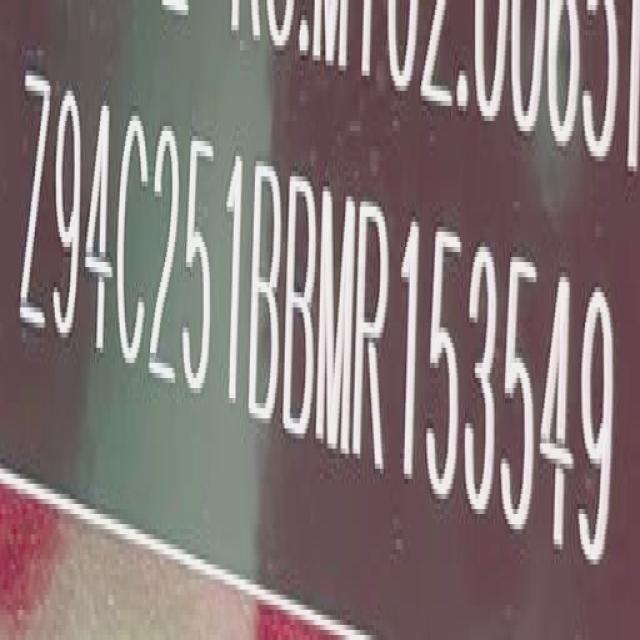1: (398, 210, 422, 482), (222, 147, 244, 410)
2: (152, 130, 183, 387)
3: (466, 246, 499, 523)
4: (542, 268, 576, 562), (88, 98, 116, 359)
5: (424, 221, 463, 501), (503, 257, 538, 541), (181, 134, 216, 395)
9: (580, 293, 617, 574), (51, 80, 81, 345)
B: (250, 154, 284, 420), (286, 169, 319, 440)
C: (118, 106, 150, 373)
M: (318, 183, 354, 456)
R: (351, 196, 393, 468)
Z: (18, 61, 50, 334)
